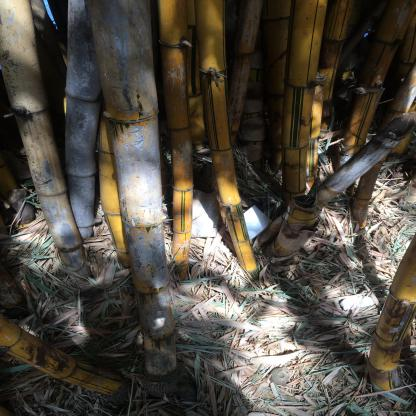plastik: (224, 204, 272, 240)
